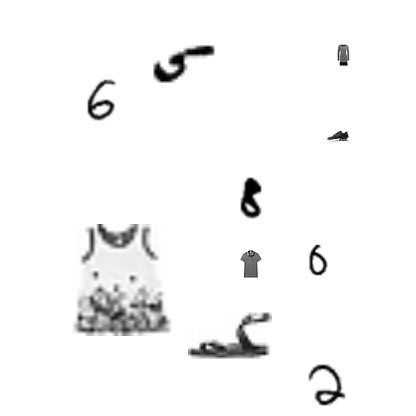0: (296, 239, 338, 281)
2: (299, 357, 355, 413)
5: (136, 19, 220, 103)
6: (72, 74, 128, 130)
8: (221, 168, 277, 224)
Dress: (66, 224, 178, 336), (332, 44, 354, 66)
Sandal: (188, 292, 272, 376)
Sneaker: (327, 125, 349, 147)
T-shirt/top: (237, 250, 265, 278)
